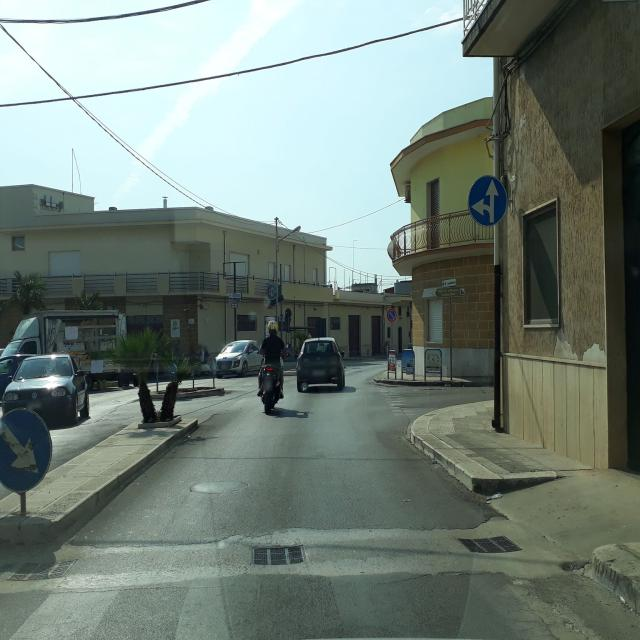forb_stopping: (386, 308, 397, 322)
